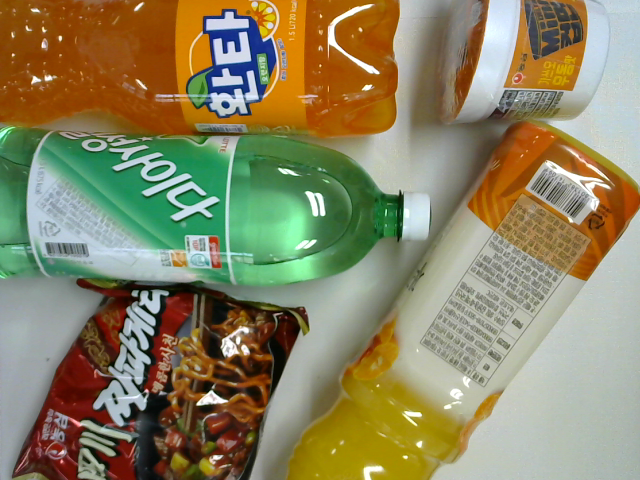Chilseong_Cider_1.5L: (1, 125, 431, 287)
Hwanta_Orange_1.5L: (1, 1, 400, 135)
Jeju_Tangerine_1.5L: (287, 119, 640, 479)
Sichuan_Chapaghetti: (9, 278, 309, 480)
Udongmini: (429, 1, 611, 128)
